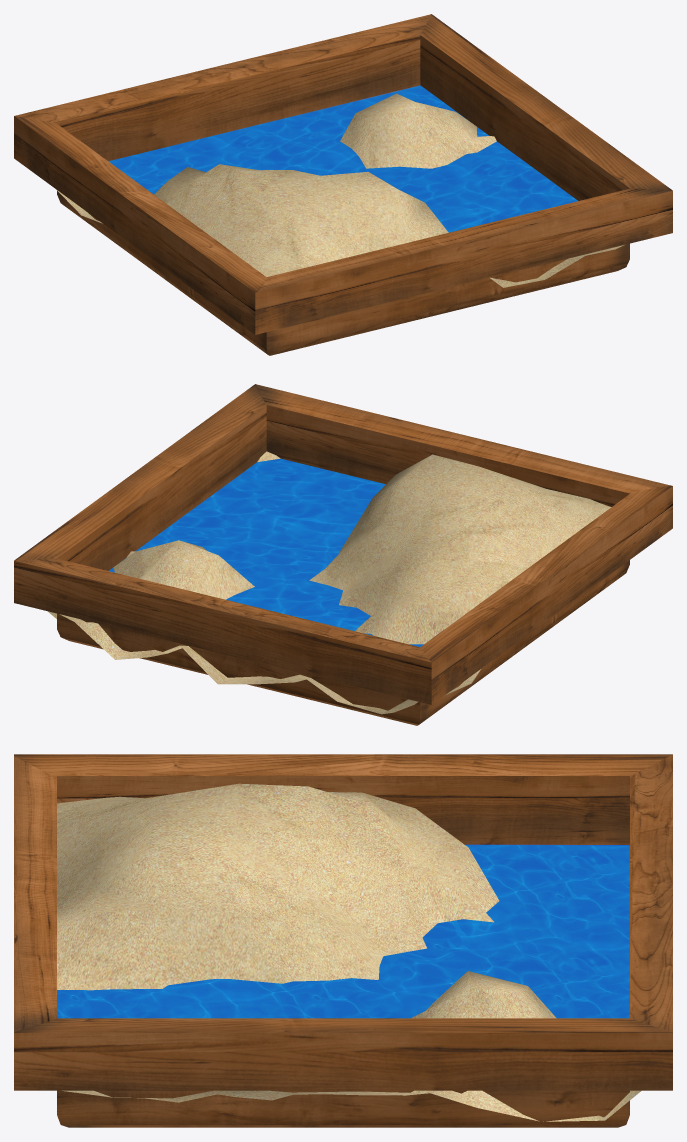
File: Sand03.fbx
3 views of the same model, one above another, from view 1: azimuth 30°, elevation 25°; view 2: azimuth 150°, elevation 25°; view 3: azimuth 270°, elevation 25° (orthographic). The views are drawn at different scales.
Visible parts, largest first — view 1: polySurface11; view 2: polySurface11; view 3: polySurface11.
Part boxes in pixels (bbox=[...]): polySurface11: bbox=[14, 14, 672, 355]; polySurface11: bbox=[14, 384, 672, 725]; polySurface11: bbox=[14, 754, 672, 1127].
Bounding box in the file's own units: 23.91 × 6.06 × 23.91.
